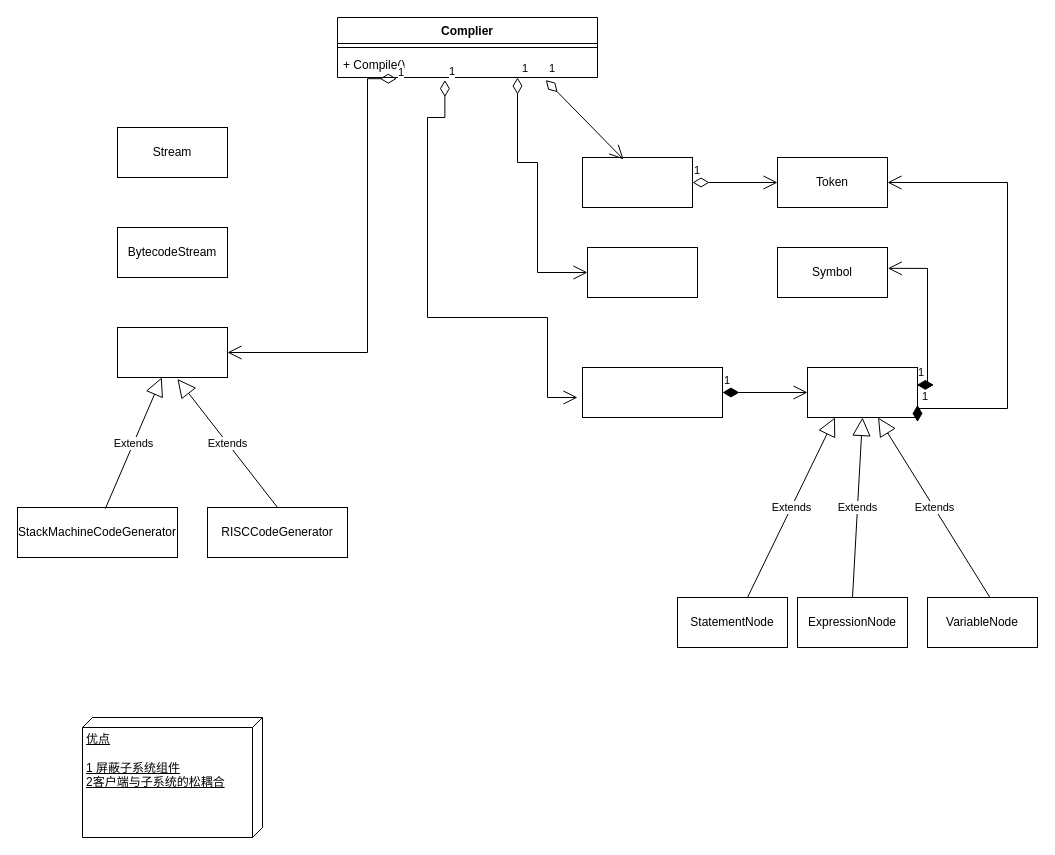
The diagram is 1055 pixels wide and 855 high, and some of its shapes have lost their labels. Here are the shapes that lost their labels. From the top down, the centre of each, then its label:
At point 637,182: "Scanner".
At point 642,272: "Parse".
At point 172,352: "CodeGenerator".
At point 652,392: "ProgramentNodeBuilder".
At point 862,392: "ProgramNode".
